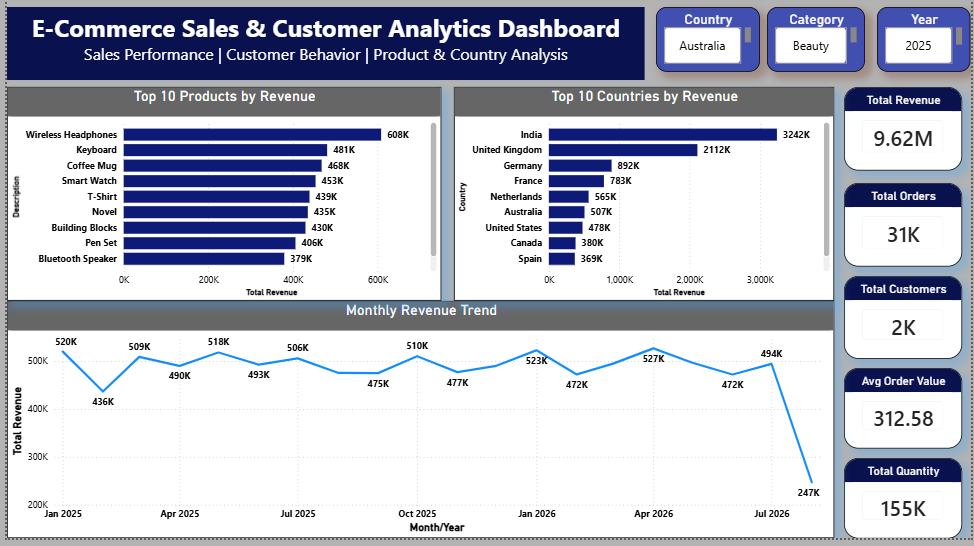

What the dashboard file says about the page in this screenshot:
{"tool":"powerbi","page":{"name":"Page 1","canvas":[1280,720],"ordinal":0},"visuals":[{"type":"cardVisual","title":"Total Revenue","fields":{"Data":["ecommerce_sales_cleaned.Total Revenue"]},"box":[13.4,179.7,230.1,119.3],"z":0},{"type":"cardVisual","title":"Total Customers","fields":{"Data":["ecommerce_sales_cleaned.Total Customers"]},"box":[507.3,179.7,238.5,119.3],"z":1},{"type":"cardVisual","title":"Total Orders","fields":{"Data":["ecommerce_sales_cleaned.Total Orders"]},"box":[262,179.7,225.1,119.3],"z":2},{"type":"cardVisual","title":"Avg Order Value","fields":{"Data":["ecommerce_sales_cleaned.Average Order Value"]},"box":[767.7,179.7,246.9,119.3],"z":3},{"type":"cardVisual","title":"Total Quantity","fields":{"Data":["ecommerce_sales_cleaned.Total Quantity"]},"box":[1044.8,179.7,220.1,119.3],"z":4},{"type":"lineChart","title":"Monthly Revenue Trend","fields":{"Category":["ecommerce_sales_cleaned.InvoiceDate.Variation.Date Hierarchy.Year","ecommerce_sales_cleaned.InvoiceDate.Variation.Date Hierarchy.Month"],"Y":["ecommerce_sales_cleaned.Total Revenue"]},"box":[0,319,487.1,361.2],"z":5},{"type":"clusteredBarChart","title":"Top 10 Countries by Revenue","fields":{"Category":["ecommerce_sales_cleaned.Country"],"Y":["ecommerce_sales_cleaned.Total Revenue"]},"box":[910.2,320.5,369.6,361.2],"z":6},{"type":"clusteredBarChart","title":"Top 10 Products by Revenue","fields":{"Category":["ecommerce_sales_cleaned.Description"],"Y":["ecommerce_sales_cleaned.Total Revenue"]},"box":[506.3,319,384.7,361.2],"z":7},{"type":"textbox","box":[13.4,15.1,833.2,144.5],"z":8},{"type":"advancedSlicerVisual","fields":{"Values":["ecommerce_sales_cleaned.Country"]},"box":[871.8,15.1,126,144.5],"z":9},{"type":"advancedSlicerVisual","fields":{"Values":["ecommerce_sales_cleaned.Category"]},"box":[1009.6,15.1,131,144.5],"z":10},{"type":"advancedSlicerVisual","fields":{"Values":["ecommerce_sales_cleaned.InvoiceDate.Variation.Date Hierarchy.Year"]},"box":[1155.7,15.1,124.3,144.5],"z":11}]}

Visuals, with their boxes in screenshot pixels (x1, y1, x2, y2), scaled from the page's 1280x720 canvas onto the 974x546 screenshot:
"Total Revenue" cardVisual: box(10, 136, 185, 227)
"Total Customers" cardVisual: box(386, 136, 568, 227)
"Total Orders" cardVisual: box(199, 136, 371, 227)
"Avg Order Value" cardVisual: box(584, 136, 772, 227)
"Total Quantity" cardVisual: box(795, 136, 963, 227)
"Monthly Revenue Trend" lineChart: box(0, 242, 371, 516)
"Top 10 Countries by Revenue" clusteredBarChart: box(693, 243, 973, 517)
"Top 10 Products by Revenue" clusteredBarChart: box(385, 242, 678, 516)
textbox: box(10, 11, 644, 121)
advancedSlicerVisual - ecommerce_sales_cleaned.Country: box(663, 11, 759, 121)
advancedSlicerVisual - ecommerce_sales_cleaned.Category: box(768, 11, 868, 121)
advancedSlicerVisual - ecommerce_sales_cleaned.InvoiceDate.Variation.Date Hierarchy.Year: box(879, 11, 973, 121)
